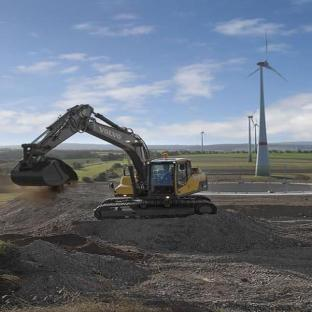ExcavationMachinery: (10, 99, 233, 228)
